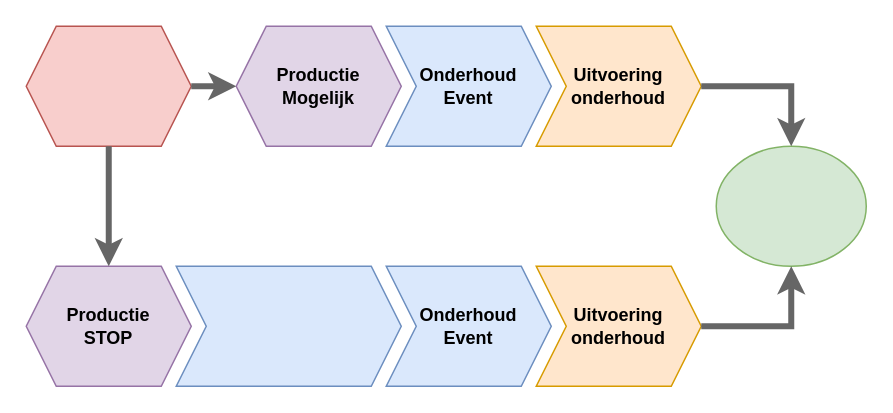
The diagram is 893 pixels wide and 413 high, and some of its shapes have lost their labels. Here are the shapes that lost their labels. From the top down, the box of each, then its label:
(25, 25, 191, 146): Onderhoud *
(715, 145, 866, 266): Onderhoud uitgevoerd
(175, 265, 401, 386): Onderhoud wordt onderdeel van productie planning
